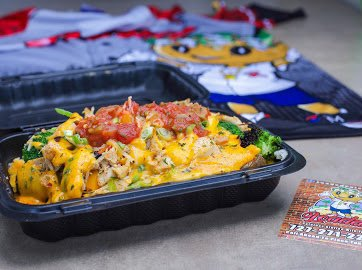curry: (218, 120, 245, 139)
